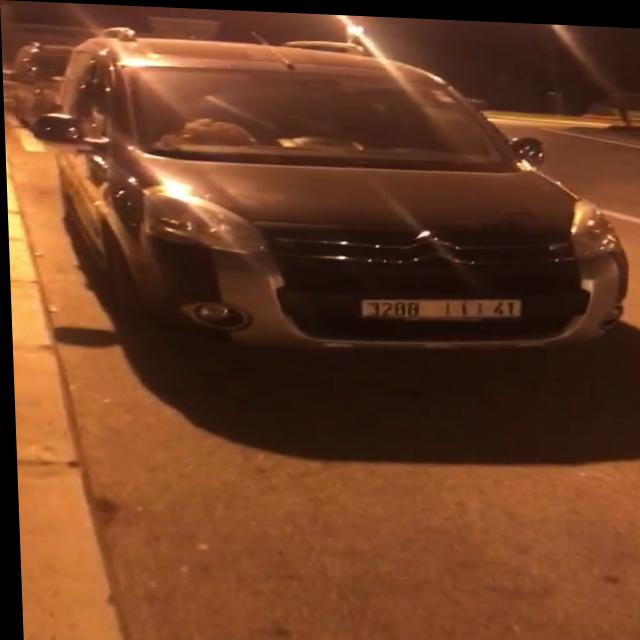License-Plate: (359, 294, 520, 316)
